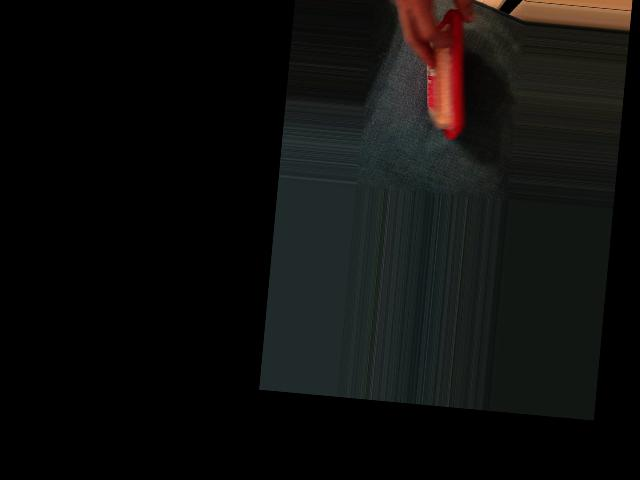cheese: (413, 6, 474, 139)
